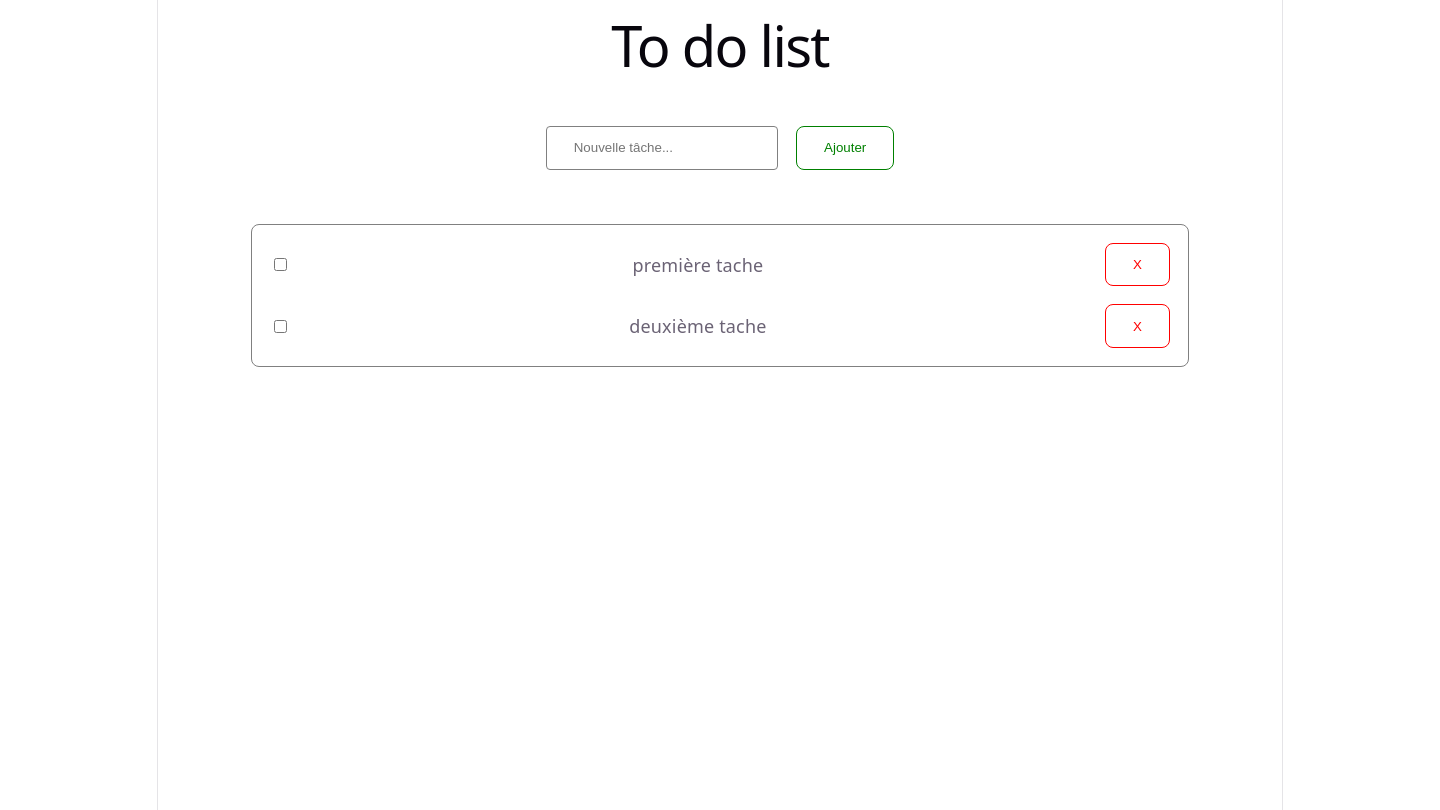
Scenario: composant App › supprime une tâche au clic sur le bouton X correspondant
Click the button "X" in the row of "première tache".
click(1138, 265)  # box top-left (1105, 243), bottom-right (1170, 286)
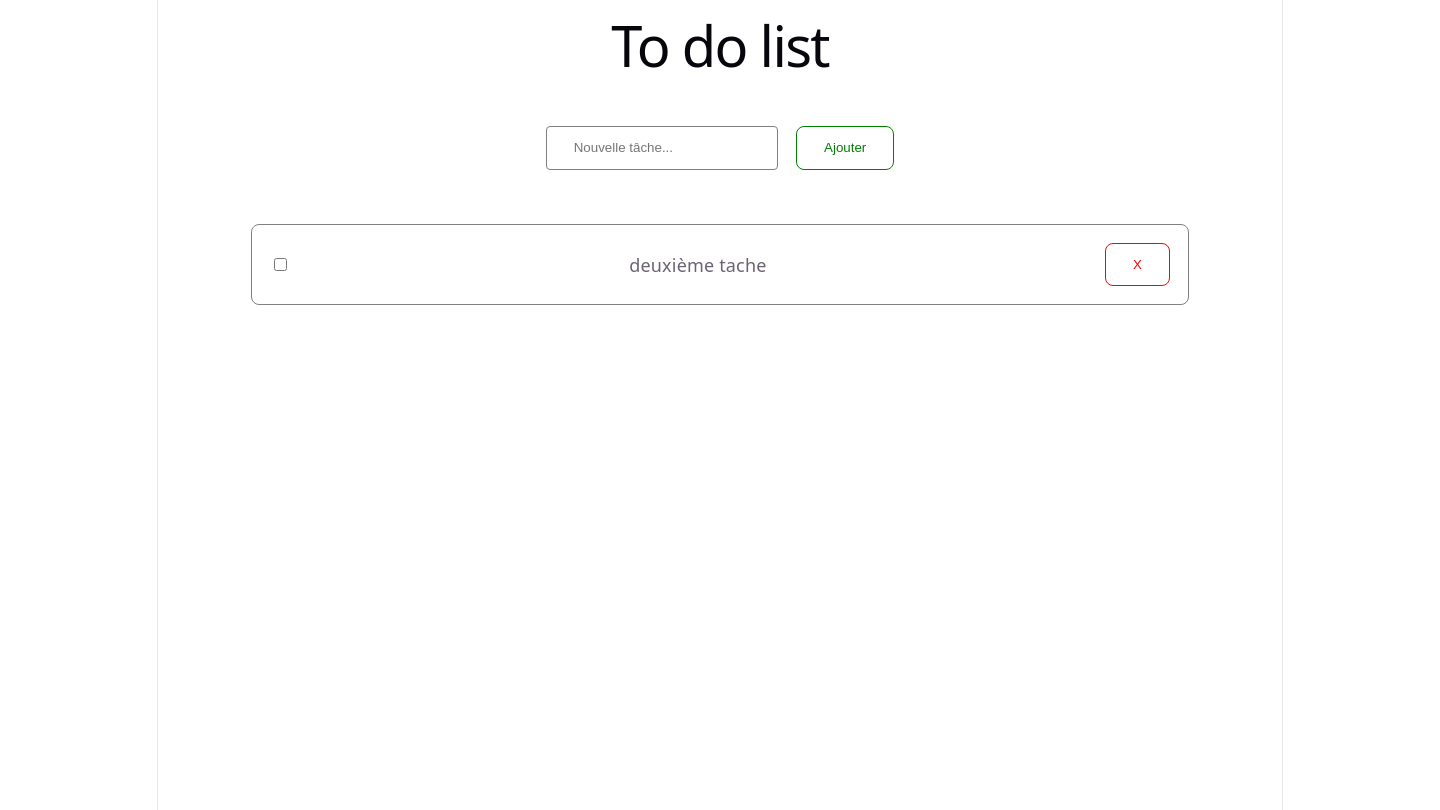
Expected: the text "première tache" is gone
Expected: the text "deuxième tache" is shown, top-left (629, 252), bottom-right (767, 278)
